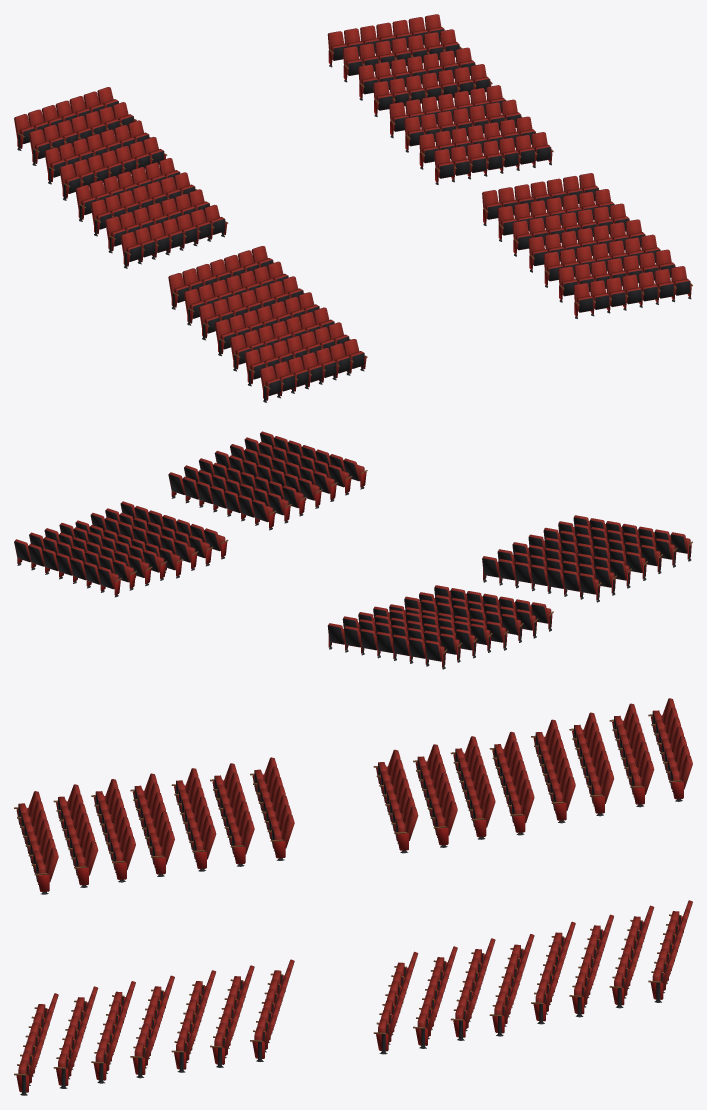
File: SideChairs.fbx
3 views of the same model, one above another, from view 1: azimuth 30°, elevation 25°; view 2: azimuth 150°, elevation 25°; view 3: azimuth 270°, elevation 25° (orthographic). The views are drawn at different scales.
Visible parts, largest first — view 1: SideChairs_Left, SideChairs_Right; view 2: SideChairs_Left, SideChairs_Right; view 3: SideChairs_Right, SideChairs_Left.
Boxes of the visible parts, x1,y1,x2,y2 form: SideChairs_Left: (327,14,692,318); SideChairs_Right: (14,87,367,402); SideChairs_Left: (14,431,367,597); SideChairs_Right: (327,515,692,669); SideChairs_Right: (14,698,692,894); SideChairs_Left: (14,900,692,1095).
Bounding box in the file's own units: 16.34 × 3.69 × 17.43.
Materials: 1 (1 with a texture image).
